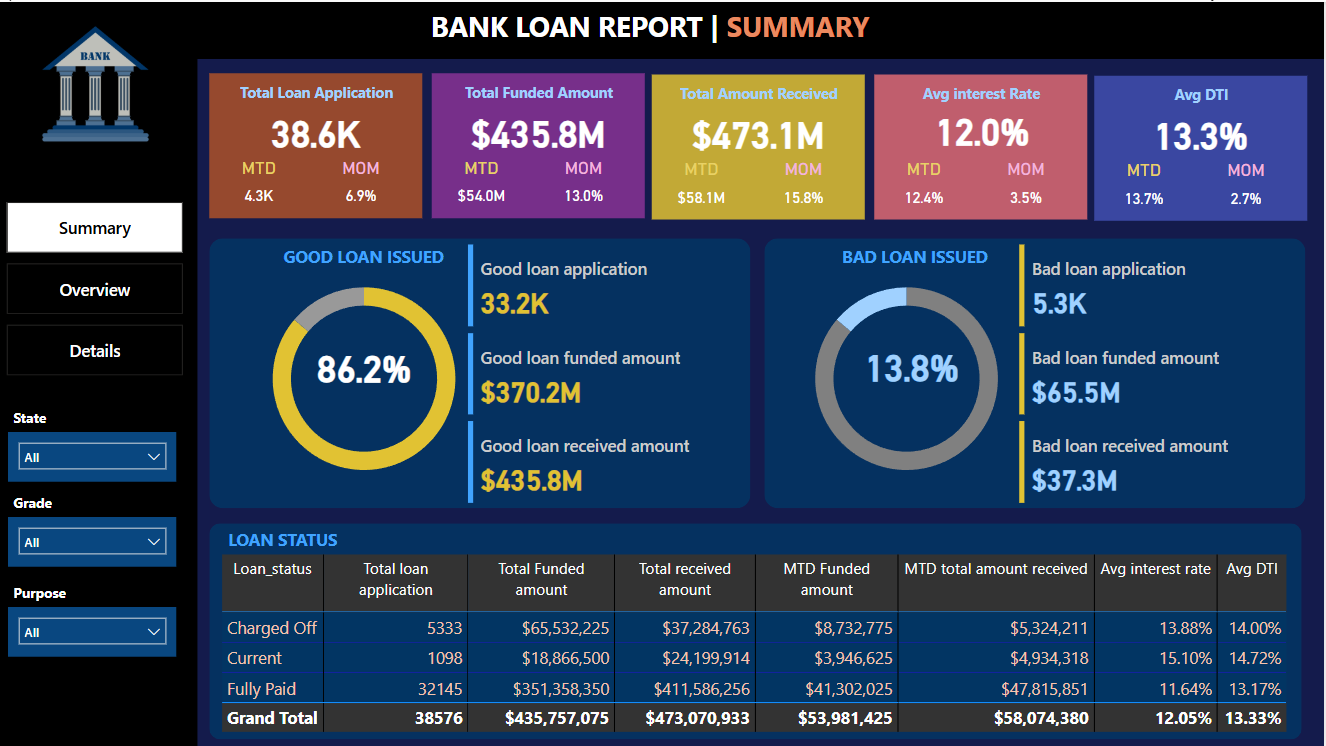

This screenshot's page, from the dashboard's own definition file:
{"tool":"powerbi","page":{"name":"Summary","canvas":[1280,720],"ordinal":0},"visuals":[{"type":"shape","box":[0,55,192.5,665],"z":0},{"type":"shape","box":[204.5,68.6,205.8,140],"z":0,"group":"g1"},{"type":"shape","box":[418.9,69.2,205.8,140],"z":0,"group":"g2"},{"type":"shape","box":[631.5,70.5,205.8,140],"z":0,"group":"g3"},{"type":"shape","box":[845.3,70.5,205.8,140],"z":0,"group":"g4"},{"type":"shape","box":[1058,71.7,205.8,140],"z":0,"group":"g5"},{"type":"shape","box":[0,54.9,192,665.5],"z":1000},{"type":"card","fields":{"Values":["Date table.Avg interest rate"]},"box":[876.5,95.5,145.8,55.9],"z":1000,"group":"g4"},{"type":"card","fields":{"Values":["bank_loan_data.total loan application"]},"box":[234.7,96,145.5,56.3],"z":1000,"group":"g1"},{"type":"card","fields":{"Values":["bank_loan_data.Total Funded amount"]},"box":[449.1,96.6,145.5,56.3],"z":1000,"group":"g2"},{"type":"card","fields":{"Values":["bank_loan_data.Total received amount"]},"box":[661.7,97.9,145.5,56.3],"z":1000,"group":"g3"},{"type":"card","fields":{"Values":["bank_loan_data.Avg DTI"]},"box":[1088.2,99.1,145.5,56.3],"z":1000,"group":"g5"},{"type":"textbox","box":[210,72.7,194.9,57.6],"z":2000,"group":"g1"},{"type":"textbox","box":[424.4,73.3,194.9,57.6],"z":2000,"group":"g2"},{"type":"textbox","box":[637,74.6,194.9,57.6],"z":2000,"group":"g3"},{"type":"textbox","box":[850.8,74.6,194.9,57.6],"z":2000,"group":"g4"},{"type":"textbox","box":[1063.5,75.8,194.9,57.6],"z":2000,"group":"g5"},{"type":"shape","box":[203.9,503.1,1054.4,208.7],"z":2000},{"type":"card","title":"MTD","fields":{"Values":["bank_loan_data.MTD loan applications"]},"box":[210,149.6,83.7,59],"z":3000,"group":"g1"},{"type":"card","title":"MTD","fields":{"Values":["bank_loan_data.MTD Funded applications"]},"box":[424.4,150.2,83.7,59],"z":3000,"group":"g2"},{"type":"card","title":"MTD","fields":{"Values":["bank_loan_data.MTD total amount received"]},"box":[637,151.5,83.7,59],"z":3000,"group":"g3"},{"type":"card","title":"MTD","fields":{"Values":["Date table.MTD avg int rate"]},"box":[850.8,151.5,83.7,59],"z":3000,"group":"g4"},{"type":"card","title":"MTD","fields":{"Values":["bank_loan_data.MTD avg dti"]},"box":[1063.5,152.7,83.7,59],"z":3000,"group":"g5"},{"type":"shape","box":[203.9,228,522.4,260.6],"z":3000},{"type":"shape","box":[0,0,1280.3,55],"z":4000},{"type":"card","title":"MOM","fields":{"Values":["bank_loan_data.MOM loan application"]},"box":[307.4,149.6,87.8,59],"z":4000,"group":"g1"},{"type":"card","title":"MOM","fields":{"Values":["bank_loan_data.MOM total funded amount"]},"box":[521.8,150.2,87.8,59],"z":4000,"group":"g2"},{"type":"card","title":"MOM","fields":{"Values":["bank_loan_data.MOM total amount received"]},"box":[734.4,151.5,87.8,59],"z":4000,"group":"g3"},{"type":"card","title":"MOM","fields":{"Values":["bank_loan_data.MOM avg int rate"]},"box":[948.2,151.5,87.8,59],"z":4000,"group":"g4"},{"type":"card","title":"MOM","fields":{"Values":["bank_loan_data.MOM total avg dti"]},"box":[1160.9,152.7,87.8,59],"z":4000,"group":"g5"},{"type":"card","fields":{"Values":["Date table.Good loan %"]},"box":[301.2,328,103.2,46.2],"z":5000},{"type":"textbox","box":[413,0,450.6,59.5],"z":6000},{"type":"group","id":"g1","title":"Group 1","box":[204.5,68.6,205.8,140],"z":7000},{"type":"donutChart","fields":{"Category":["bank_loan_data.Good loan vs Bad loan"],"Y":["bank_loan_data.total loan application"]},"box":[228,248.5,250.9,230.4],"z":8000},{"type":"group","id":"g2","title":"Group 1","box":[418.9,69.2,204.1,139.7],"z":9000},{"type":"group","id":"g3","title":"Group 1","box":[631.5,70.5,205.3,139.7],"z":10000},{"type":"group","id":"g4","title":"Group 1","box":[845.3,70.5,205.8,140],"z":11000},{"type":"group","id":"g5","title":"Group 1","box":[1058,71.7,204.1,139.7],"z":12000},{"type":"shape","box":[739.5,228,522.4,260.6],"z":13000},{"type":"textbox","box":[240.1,229.2,225.6,37.4],"z":14000},{"type":"cardVisual","fields":{"Data":["Date table.Good loan application","Date table.Good loan funded amount","Date table.Good loan received amount"]},"box":[448.8,229.2,288.3,260.6],"z":15000},{"type":"donutChart","fields":{"Category":["bank_loan_data.Good loan vs Bad loan"],"Y":["bank_loan_data.total loan application"]},"box":[751.6,248.5,250.9,230.4],"z":16000},{"type":"textbox","box":[772.2,229.6,225.6,37.4],"z":17000},{"type":"cardVisual","fields":{"Data":["Date table.Bad loan application","Date table.Bad loan funded amount","Date table.Bad loan received amount"]},"box":[980.9,229.6,288.3,260.6],"z":18000},{"type":"card","fields":{"Values":["Date table.Bad loan %"]},"box":[830,328.2,103.8,45.8],"z":19000},{"type":"tableEx","fields":{"Values":["bank_loan_data.loan_status","bank_loan_data.total loan application","bank_loan_data.Total Funded amount","bank_loan_data.Total received amount","bank_loan_data.MTD Funded applications","bank_loan_data.MTD total amount received","Date table.Avg interest rate","bank_loan_data.Avg DTI"]},"box":[209.7,528.2,1048.5,183.5],"z":20000},{"type":"textbox","box":[217.5,502.9,123.3,35],"z":21000},{"type":"slicer","fields":{"Values":["bank_loan_data.address_state"]},"box":[9.9,415.4,162.6,48.4],"z":22000},{"type":"textbox","box":[9.9,386.8,153.8,27.5],"z":23000},{"type":"slicer","fields":{"Values":["bank_loan_data.grade"]},"box":[9.9,496.7,162.6,48.4],"z":24000},{"type":"slicer","fields":{"Values":["bank_loan_data.purpose"]},"box":[9.9,583.5,162.6,48.4],"z":25000},{"type":"textbox","box":[9.9,556,153.8,27.5],"z":26000},{"type":"textbox","box":[9.9,469.2,153.8,27.5],"z":27000},{"type":"pageNavigator","box":[8.8,192.5,170,167.5],"z":28000},{"type":"image","box":[0,0,187.5,157.5],"z":29000}]}

Visuals, with their boxes in screenshot pixels (x1, y1, x2, y2), scaled from the page's 1280x720 canvas onto the 1326x746 screenshot:
shape: region(0, 57, 199, 745)
shape: region(212, 71, 425, 216)
shape: region(434, 72, 647, 217)
shape: region(654, 73, 867, 218)
shape: region(876, 73, 1089, 218)
shape: region(1096, 74, 1309, 219)
shape: region(0, 57, 199, 745)
card - Date table.Avg interest rate: region(908, 99, 1059, 157)
card - bank_loan_data.total loan application: region(243, 99, 394, 158)
card - bank_loan_data.Total Funded amount: region(465, 100, 616, 158)
card - bank_loan_data.Total received amount: region(685, 101, 836, 160)
card - bank_loan_data.Avg DTI: region(1127, 103, 1278, 161)
textbox: region(218, 75, 419, 135)
textbox: region(440, 76, 642, 136)
textbox: region(660, 77, 862, 137)
textbox: region(881, 77, 1083, 137)
textbox: region(1102, 79, 1304, 138)
shape: region(211, 521, 1304, 738)
"MTD" card: region(218, 155, 304, 216)
"MTD" card: region(440, 156, 526, 217)
"MTD" card: region(660, 157, 747, 218)
"MTD" card: region(881, 157, 968, 218)
"MTD" card: region(1102, 158, 1188, 219)
shape: region(211, 236, 752, 506)
shape: region(0, 0, 1325, 57)
"MOM" card: region(318, 155, 409, 216)
"MOM" card: region(541, 156, 632, 217)
"MOM" card: region(761, 157, 852, 218)
"MOM" card: region(982, 157, 1073, 218)
"MOM" card: region(1203, 158, 1294, 219)
card - Date table.Good loan %: region(312, 340, 419, 388)
textbox: region(428, 0, 895, 62)
"Group 1" group: region(212, 71, 425, 216)
donutChart - bank_loan_data.Good loan vs Bad loan x bank_loan_data.total loan application: region(236, 257, 496, 496)
"Group 1" group: region(434, 72, 645, 216)
"Group 1" group: region(654, 73, 867, 218)
"Group 1" group: region(876, 73, 1089, 218)
"Group 1" group: region(1096, 74, 1307, 219)
shape: region(766, 236, 1307, 506)
textbox: region(249, 237, 482, 276)
cardVisual - Date table.Good loan application x Date table.Good loan funded amount: region(465, 237, 764, 507)
donutChart - bank_loan_data.Good loan vs Bad loan x bank_loan_data.total loan application: region(779, 257, 1039, 496)
textbox: region(800, 238, 1034, 277)
cardVisual - Date table.Bad loan application x Date table.Bad loan funded amount: region(1016, 238, 1315, 508)
card - Date table.Bad loan %: region(860, 340, 967, 388)
tableEx - bank_loan_data.loan_status x bank_loan_data.total loan application: region(217, 547, 1303, 737)
textbox: region(225, 521, 353, 557)
slicer - bank_loan_data.address_state: region(10, 430, 179, 481)
textbox: region(10, 401, 170, 429)
slicer - bank_loan_data.grade: region(10, 515, 179, 565)
slicer - bank_loan_data.purpose: region(10, 605, 179, 655)
textbox: region(10, 576, 170, 605)
textbox: region(10, 486, 170, 515)
pageNavigator: region(9, 199, 185, 373)
image: region(0, 0, 194, 163)
